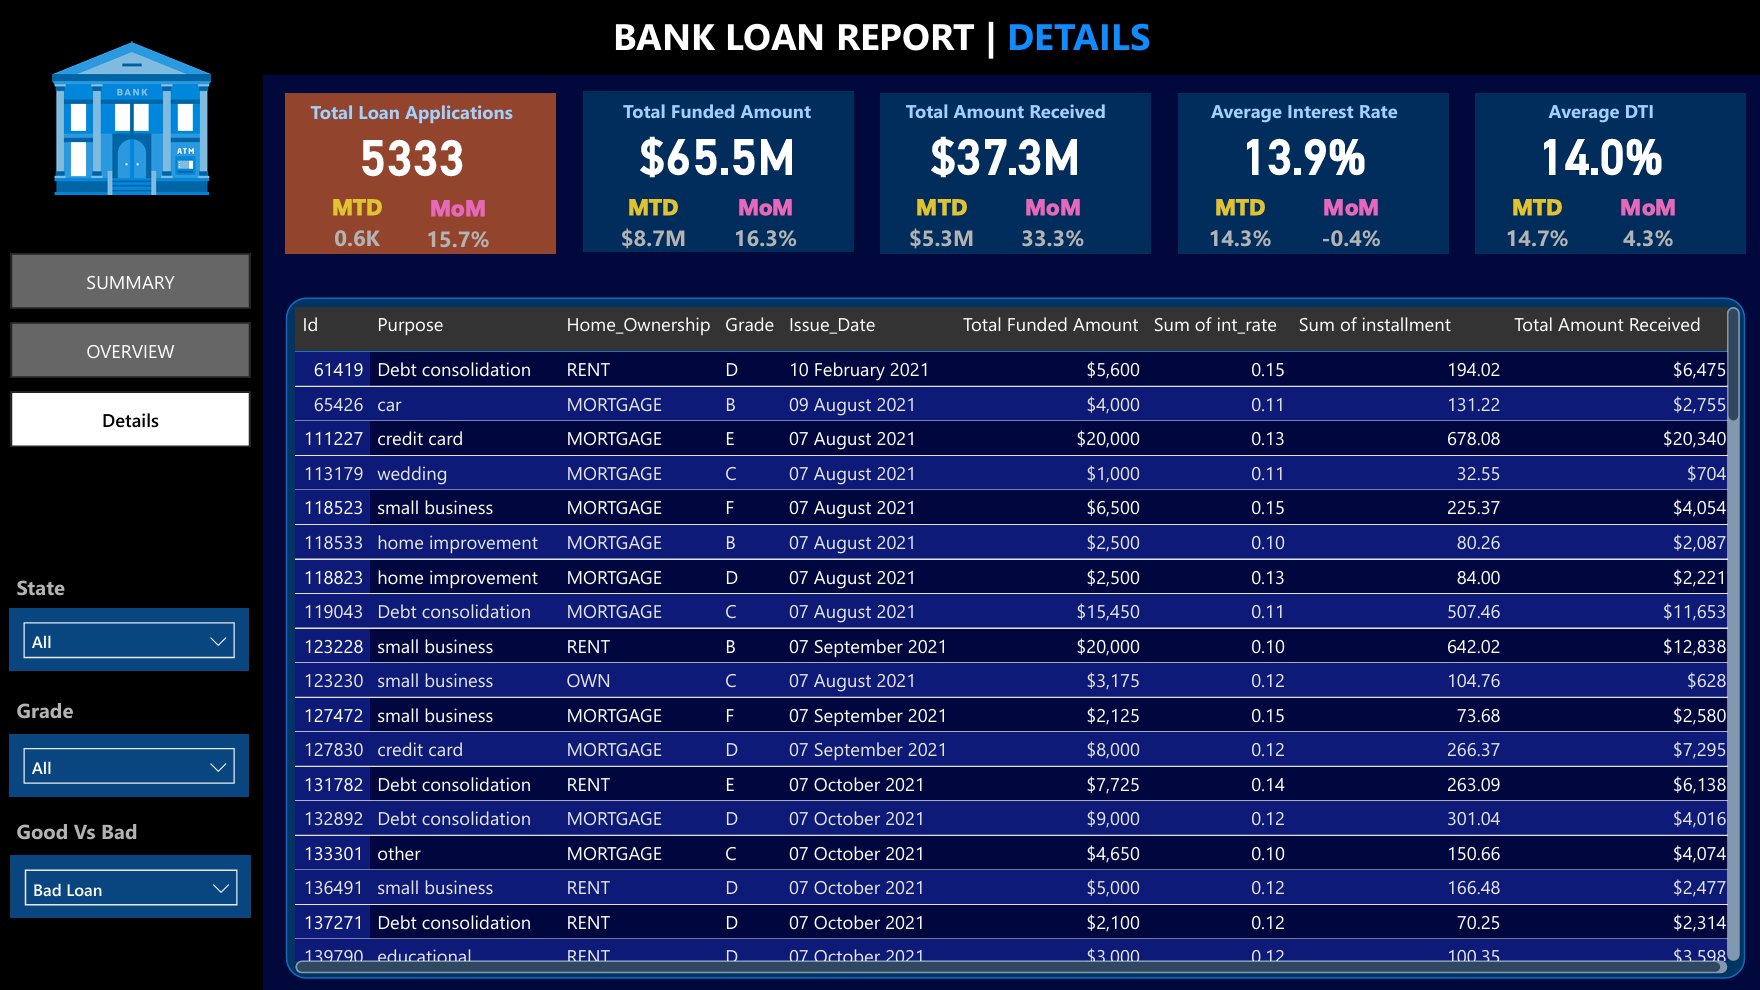

The page's visual inventory and layout, read from the dashboard file:
{"tool":"powerbi","page":{"name":"Details","canvas":[1280,720],"ordinal":2},"visuals":[{"type":"shape","box":[0,0,1279.5,55],"z":0},{"type":"shape","box":[0,54.3,192,665.6],"z":1000},{"type":"textbox","box":[415.6,2.7,448.2,48.9],"z":2000},{"type":"shape","box":[424.2,67.1,195.7,116.4],"z":3000,"group":"g2"},{"type":"group","id":"g1","title":"Group 1","box":[208.8,67.6,195.9,120.6],"z":3000},{"type":"shape","box":[208.8,67.6,195.9,116.5],"z":3000,"group":"g1"},{"type":"shape","box":[639.5,67.9,195.6,116.7],"z":3000,"group":"g3"},{"type":"shape","box":[854.7,67.9,195.6,116.7],"z":3000,"group":"g4"},{"type":"shape","box":[1070,67.9,195.6,116.7],"z":3000,"group":"g5"},{"type":"card","fields":{"Values":["bank_loan_data.Total Amount Received"]},"box":[653.9,86.5,152.2,49.4],"z":4000,"group":"g3"},{"type":"card","fields":{"Values":["bank_loan_data.Avg Interested Rate"]},"box":[869.1,86.5,152.2,49.4],"z":4000,"group":"g4"},{"type":"card","fields":{"Values":["bank_loan_data.Avg DTI"]},"box":[1084.4,86.5,152.2,49.4],"z":4000,"group":"g5"},{"type":"card","fields":{"Values":["bank_loan_data.Total Funded Amount"]},"box":[445.4,86.8,152.2,49.4],"z":4000,"group":"g2"},{"type":"card","fields":{"Values":["bank_loan_data.Total Loan Apllications"]},"box":[223.9,87,152.2,49.4],"z":4000,"group":"g1"},{"type":"shape","box":[208.8,216.2,1056.2,492.5],"z":4000},{"type":"group","id":"g2","title":"Group 1","box":[424.2,67.1,195.7,121.5],"z":5000},{"type":"textbox","box":[650,67.1,160,30],"z":5000,"group":"g3"},{"type":"textbox","box":[865.2,67.1,160,30],"z":5000,"group":"g4"},{"type":"textbox","box":[1080.5,67.1,160,30],"z":5000,"group":"g5"},{"type":"textbox","box":[441.5,67.3,160,30],"z":5000,"group":"g2"},{"type":"textbox","box":[220,67.6,160,30],"z":5000,"group":"g1"},{"type":"group","id":"g3","title":"Group 1","box":[639.5,67.1,195.7,121.4],"z":6000},{"type":"card","title":"MTD","fields":{"Values":["bank_loan_data.MTD Loan Applications"]},"box":[235.6,138.4,48.8,48.8],"z":6000,"group":"g1"},{"type":"card","title":"MTD","fields":{"Values":["bank_loan_data.MTD Total Amount Received"]},"box":[650.4,139.1,66.7,49.3],"z":6000,"group":"g3"},{"type":"card","title":"MTD","fields":{"Values":["bank_loan_data.MTD Avg Int Rate"]},"box":[865.6,139.1,66.7,49.3],"z":6000,"group":"g4"},{"type":"card","title":"MTD","fields":{"Values":["bank_loan_data.MTD Avg DTI"]},"box":[1080.9,139.1,66.7,49.3],"z":6000,"group":"g5"},{"type":"card","title":"MTD","fields":{"Values":["bank_loan_data.MTD Funded Amount"]},"box":[441.9,139.3,66.7,49.3],"z":6000,"group":"g2"},{"type":"group","id":"g4","title":"Group 1","box":[854.7,67.1,195.7,121.4],"z":7000},{"type":"card","title":"MoM","fields":{"Values":["bank_loan_data.MoM Total Amount Received"]},"box":[732.5,139,64.3,49.3],"z":7000,"group":"g3"},{"type":"card","title":"MoM","fields":{"Values":["bank_loan_data.MoM Avg Int Rate"]},"box":[947.7,139,64.3,49.3],"z":7000,"group":"g4"},{"type":"card","title":"MoM","fields":{"Values":["bank_loan_data.MoM Avg DTI"]},"box":[1163,139,64.3,49.3],"z":7000,"group":"g5"},{"type":"card","title":"MoM","fields":{"Values":["bank_loan_data.MoM Total Funded Amount"]},"box":[524,139.2,64.3,49.3],"z":7000,"group":"g2"},{"type":"card","title":"MoM","fields":{"Values":["bank_loan_data.MoM Loan Applications"]},"box":[299.3,139.7,67.5,48.8],"z":7000,"group":"g1"},{"type":"group","id":"g5","title":"Group 1","box":[1070,67.1,197.1,121.4],"z":8000},{"type":"slicer","fields":{"Values":["bank_loan_data.address_state"]},"box":[8.8,441.2,173.5,45.3],"z":9000},{"type":"textbox","box":[9.4,410,173.5,31.2],"z":10000},{"type":"slicer","fields":{"Values":["bank_loan_data.grade"]},"box":[8.8,532.4,173.5,44.7],"z":11000},{"type":"textbox","box":[9.4,499.4,173.5,32.9],"z":12000},{"type":"textbox","box":[8.9,587.4,173.7,32.6],"z":13000},{"type":"tableEx","fields":{"Values":["bank_loan_data.id","bank_loan_data.purpose","bank_loan_data.home_ownership","bank_loan_data.grade","bank_loan_data.issue_date","bank_loan_data.Total Funded Amount","Sum(bank_loan_data.int_rate)","Sum(bank_loan_data.installment)","bank_loan_data.Total Amount Received"]},"box":[210,217.5,1056.2,492.5],"z":14000},{"type":"slicer","fields":{"Values":["bank_loan_data.Good Vs Bad Loan"]},"box":[10,620,173.8,45],"z":15000},{"type":"image","box":[35,25,125,122.5],"z":16000},{"type":"pageNavigator","box":[10,183.8,172.5,141.2],"z":17000}]}

Visuals, with their boxes in screenshot pixels (x1, y1, x2, y2), scaled from the page's 1280x720 canvas onto the 1760x990 screenshot:
shape: (0, 0, 1759, 76)
shape: (0, 75, 264, 989)
textbox: (571, 4, 1188, 71)
shape: (583, 92, 852, 252)
"Group 1" group: (287, 93, 556, 259)
shape: (287, 93, 556, 253)
shape: (879, 93, 1148, 254)
shape: (1175, 93, 1444, 254)
shape: (1471, 93, 1740, 254)
card - bank_loan_data.Total Amount Received: (899, 119, 1108, 187)
card - bank_loan_data.Avg Interested Rate: (1195, 119, 1404, 187)
card - bank_loan_data.Avg DTI: (1491, 119, 1700, 187)
card - bank_loan_data.Total Funded Amount: (612, 119, 822, 187)
card - bank_loan_data.Total Loan Apllications: (308, 120, 517, 188)
shape: (287, 297, 1739, 974)
"Group 1" group: (583, 92, 852, 259)
textbox: (894, 92, 1114, 134)
textbox: (1190, 92, 1410, 134)
textbox: (1486, 92, 1706, 134)
textbox: (607, 93, 827, 134)
textbox: (302, 93, 522, 134)
"Group 1" group: (879, 92, 1148, 259)
"MTD" card: (324, 190, 391, 257)
"MTD" card: (894, 191, 986, 259)
"MTD" card: (1190, 191, 1282, 259)
"MTD" card: (1486, 191, 1578, 259)
"MTD" card: (608, 192, 699, 259)
"Group 1" group: (1175, 92, 1444, 259)
"MoM" card: (1007, 191, 1096, 259)
"MoM" card: (1303, 191, 1392, 259)
"MoM" card: (1599, 191, 1688, 259)
"MoM" card: (720, 191, 809, 259)
"MoM" card: (412, 192, 504, 259)
"Group 1" group: (1471, 92, 1742, 259)
slicer - bank_loan_data.address_state: (12, 607, 251, 669)
textbox: (13, 564, 251, 607)
slicer - bank_loan_data.grade: (12, 732, 251, 794)
textbox: (13, 687, 251, 732)
textbox: (12, 808, 251, 852)
tableEx - bank_loan_data.id x bank_loan_data.purpose: (289, 299, 1741, 976)
slicer - bank_loan_data.Good Vs Bad Loan: (14, 852, 253, 914)
image: (48, 34, 220, 203)
pageNavigator: (14, 253, 251, 447)
